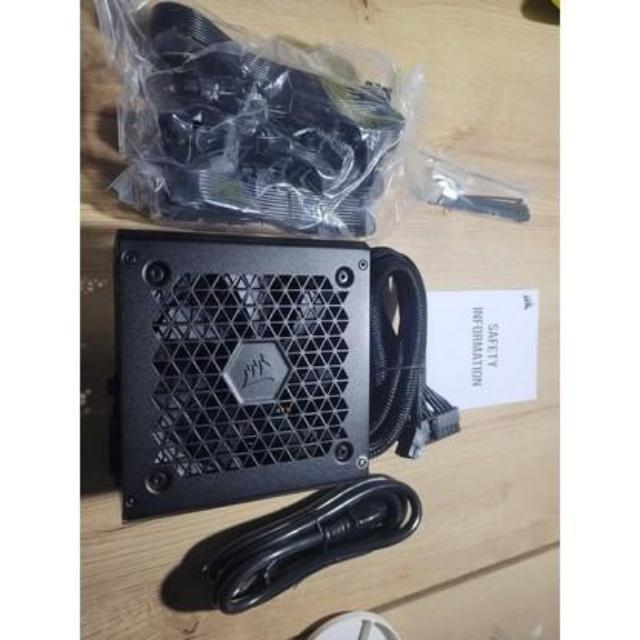PSU: (104, 223, 379, 526)
